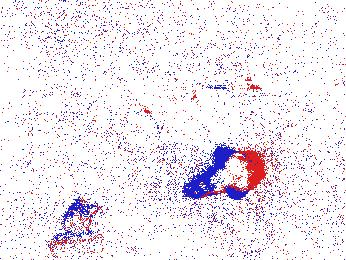flame jellyfish: (179, 147, 263, 202), (219, 197, 289, 260), (48, 197, 107, 260)
